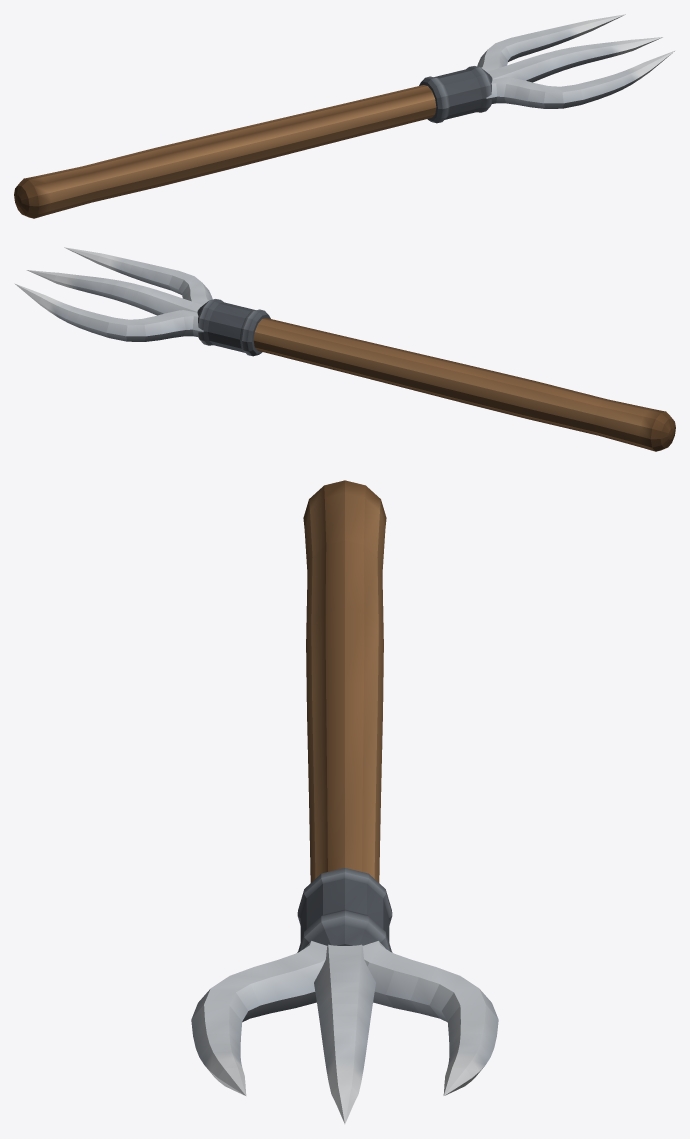
Rendered from Pitchfork.fbx.
3 views of the same model, one above another, from view 1: azimuth 30°, elevation 25°; view 2: azimuth 150°, elevation 25°; view 3: azimuth 270°, elevation 25° (orthographic). The views are drawn at different scales.
Visible parts, largest first — view 1: PitchforkHandle, PitchforkHead; view 2: PitchforkHandle, PitchforkHead; view 3: PitchforkHead, PitchforkHandle.
Boxes of the visible parts, x1,y1,x2,y2 form: PitchforkHandle: (14,85,436,218); PitchforkHead: (419,14,675,123); PitchforkHandle: (253,318,675,451); PitchforkHead: (14,247,270,356); PitchforkHead: (191,868,498,1123); PitchforkHandle: (303,480,386,882).
Bounding box in the file's own units: 628 × 40 × 129.
